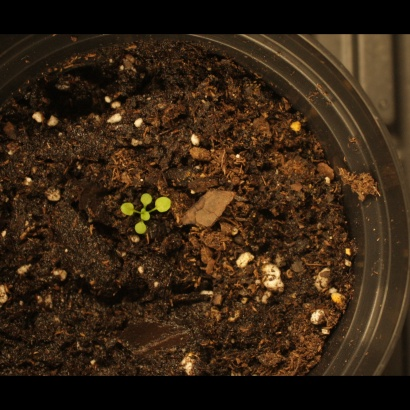leaf: (114, 199, 137, 222), (156, 196, 179, 219), (129, 223, 152, 246), (135, 185, 158, 208), (134, 203, 157, 226)
